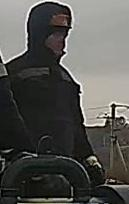gloves: (82, 152, 105, 185)
helmet: (27, 1, 72, 29)
vest: (0, 56, 94, 160)
